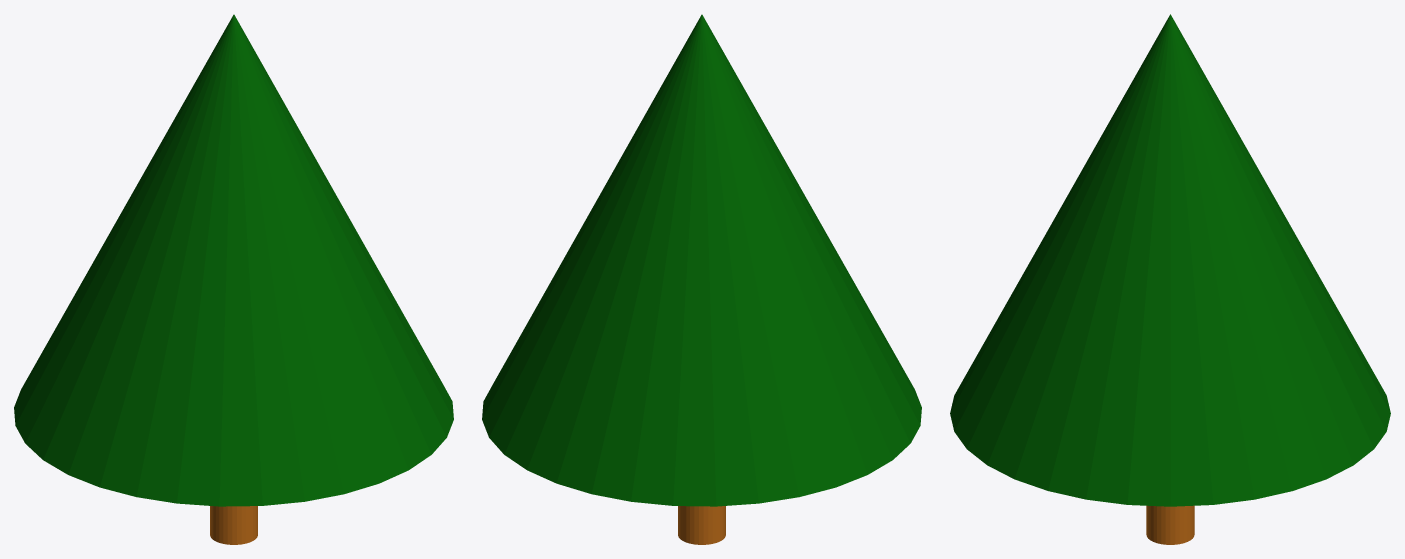
The model's file is Tree_3.fbx.
3 renders of one model, left to right at view 1: azimuth 30°, elevation 25°; view 2: azimuth 150°, elevation 25°; view 3: azimuth 270°, elevation 25°, orthographic.
Parts seen in each view (by area): view 1: Cone.028; view 2: Cone.028; view 3: Cone.028.
Boxes of the visible parts, bbox=[...] form: Cone.028: bbox=[14, 14, 453, 544]; Cone.028: bbox=[482, 14, 921, 544]; Cone.028: bbox=[950, 14, 1390, 544].
Bounding box in the file's own units: 171 × 223 × 171.
